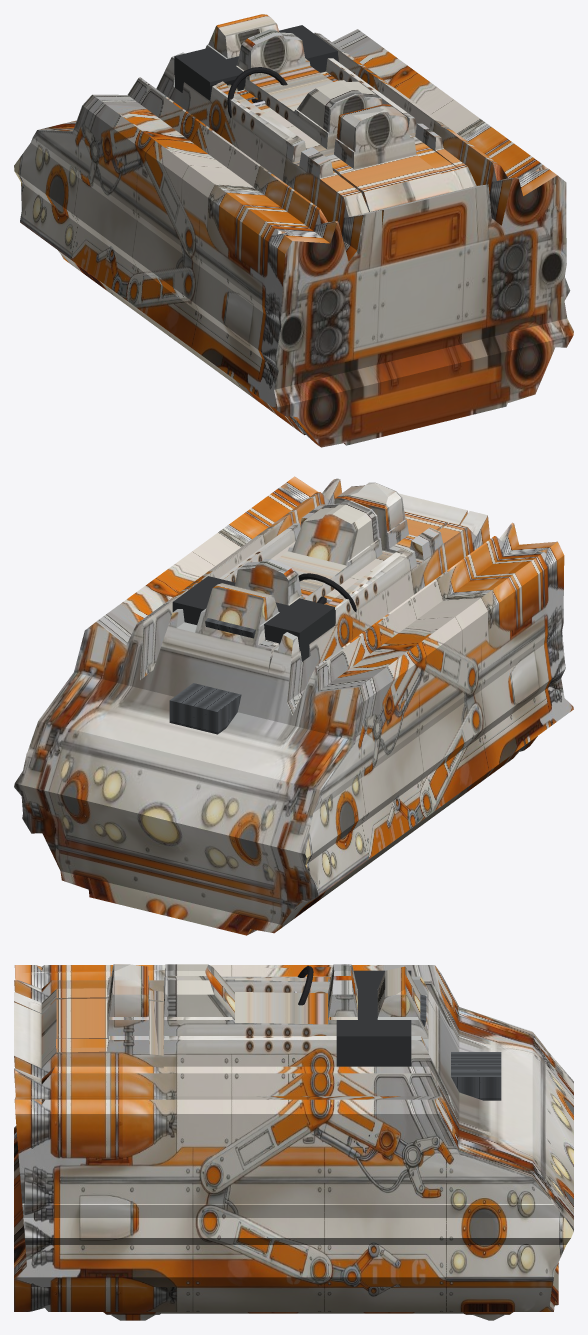
File: cargo_mule.glb
3 views of the same model, one above another, from view 1: azimuth 30°, elevation 25°; view 2: azimuth 150°, elevation 25°; view 3: azimuth 270°, elevation 25° (orthographic). The views are drawn at different scales.
Visible parts, largest first — view 1: cargo_mule, cargo_mule_cabin; view 2: cargo_mule, cargo_mule_cabin; view 3: cargo_mule, cargo_mule_cabin.
Part boxes in pixels (left/top/right/bottom): cargo_mule: left=14, top=14, right=573, bottom=447; cargo_mule_cabin: left=174, top=25, right=337, bottom=118; cargo_mule: left=14, top=476, right=573, bottom=935; cargo_mule_cabin: left=169, top=573, right=356, bottom=734; cargo_mule: left=14, top=964, right=573, bottom=1320; cargo_mule_cabin: left=294, top=966, right=501, bottom=1100.
Bounding box in the file's own units: 1.94 × 1.9 × 3.
9 materials, 4 textured.
